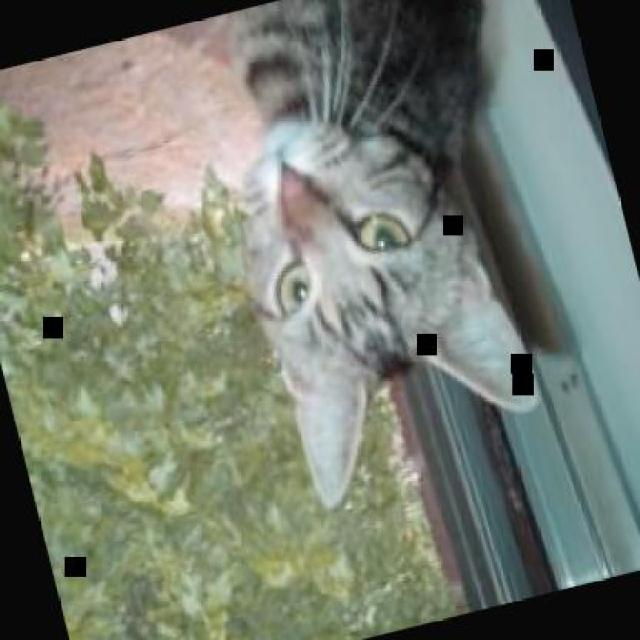cat: (178, 0, 635, 515)
